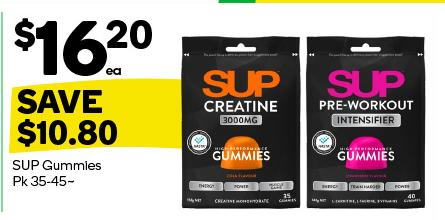description_block: (9, 157, 109, 191)
price_main: (8, 6, 159, 79)
product_image_block: (180, 26, 429, 215)
promo_text_block: (5, 83, 185, 153)
